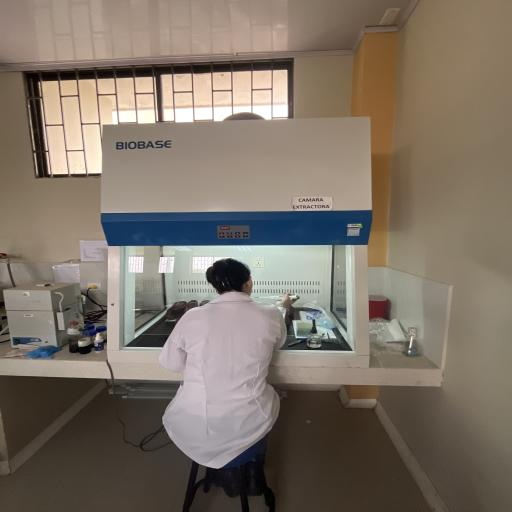Camara_Extractora_Biobase: (87, 107, 389, 388)
